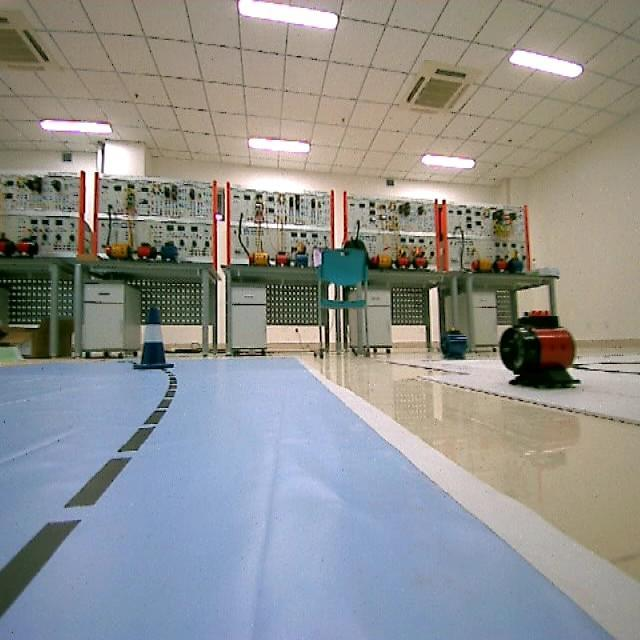obstacle: (128, 302, 185, 371)
